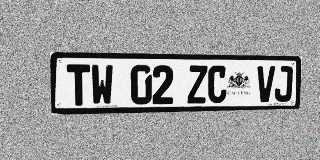0: (131, 65, 152, 105)
2: (152, 65, 173, 104)
C: (207, 65, 227, 103)
J: (274, 66, 293, 102)
T: (67, 64, 90, 106)
V: (256, 66, 275, 102)
W: (91, 65, 113, 105)
Z: (187, 65, 208, 104)
